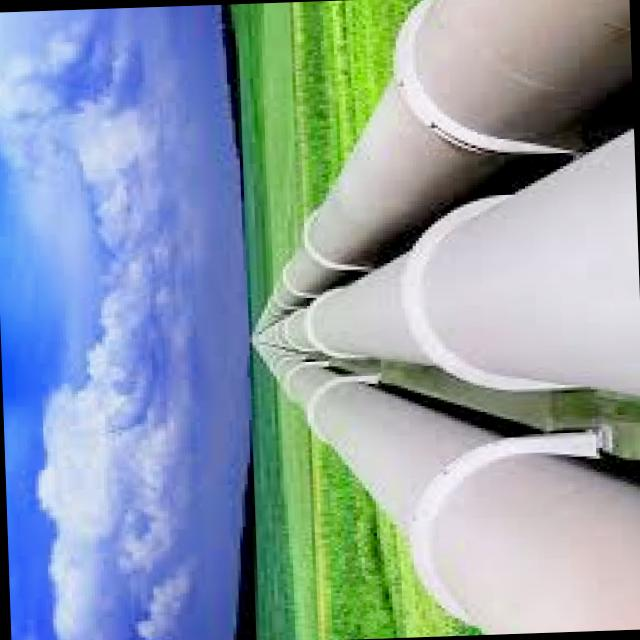gas: (258, 0, 632, 328), (258, 346, 640, 635), (255, 129, 640, 393)
